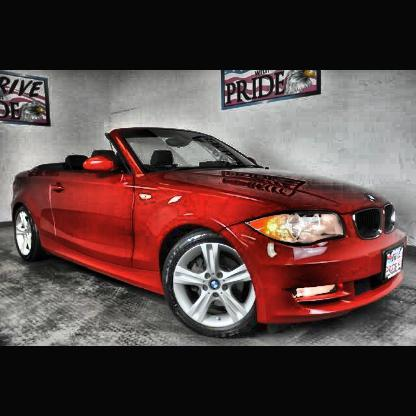BMW 1 Series Convertible 2012: (13, 128, 408, 340)
